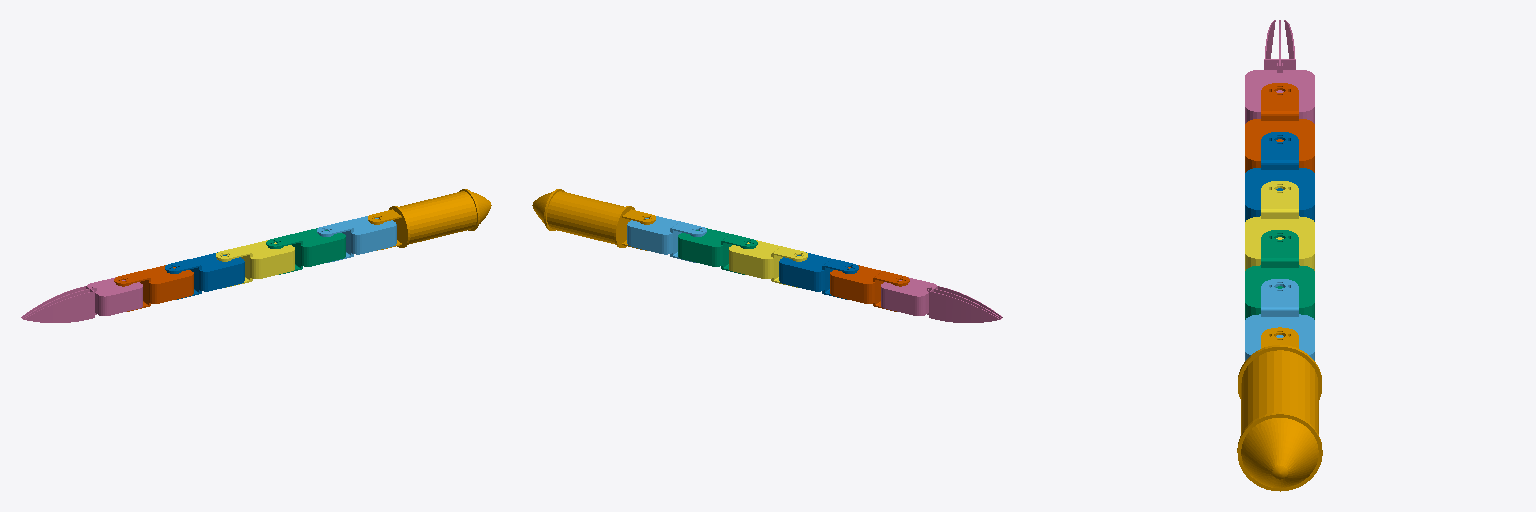
URDF robot description (test):
<robot name="test" version="1.0">
  <joint name="link1_joint" type="revolute">
    <limit lower="-1.50000" upper="1.50000" effort="10.00000" velocity="1.00000"/>
    <origin rpy="0.00000 0.00000 0.00000" xyz="-0.06425 0.00065 0.04200"/>
    <parent link="base_link"/>
    <child link="link1"/>
    <axis xyz="0.00000 0.00000 1.00000"/>
  </joint>
  <joint name="link2_joint" type="revolute">
    <limit lower="-1.50000" upper="1.50000" effort="10.00000" velocity="1.00000"/>
    <origin rpy="0.00000 0.00000 0.00000" xyz="-0.07470 0.00000 0.00000"/>
    <parent link="link1"/>
    <child link="link2"/>
    <axis xyz="0.00000 0.00000 1.00000"/>
  </joint>
  <joint name="link3_joint" type="revolute">
    <limit lower="-1.50000" upper="1.50000" effort="10.00000" velocity="1.00000"/>
    <origin rpy="0.00000 0.00000 0.00000" xyz="-0.07470 0.00000 0.00000"/>
    <parent link="link2"/>
    <child link="link3"/>
    <axis xyz="0.00000 0.00000 1.00000"/>
  </joint>
  <joint name="link4_joint" type="revolute">
    <limit lower="-1.50000" upper="1.50000" effort="10.00000" velocity="1.00000"/>
    <origin rpy="0.00000 0.00000 0.00000" xyz="-0.07332 0.00003 -0.00111"/>
    <parent link="link3"/>
    <child link="link4"/>
    <axis xyz="0.00000 0.00000 1.00000"/>
  </joint>
  <joint name="link5_joint" type="revolute">
    <limit lower="-1.50000" upper="1.50000" effort="10.00000" velocity="1.00000"/>
    <origin rpy="0.00000 0.00000 0.00000" xyz="-0.07608 -0.00003 0.00111"/>
    <parent link="link4"/>
    <child link="link5"/>
    <axis xyz="0.00000 0.00000 1.00000"/>
  </joint>
  <joint name="link6_joint" type="revolute">
    <limit lower="-1.50000" upper="1.50000" effort="10.00000" velocity="1.00000"/>
    <origin rpy="0.00000 0.00000 0.00000" xyz="-0.07470 0.00000 0.00000"/>
    <parent link="link5"/>
    <child link="link6"/>
    <axis xyz="0.00000 0.00000 1.00000"/>
  </joint>
  <link name="base_link">
    <visual name="base_link_visual">
      <origin rpy="0.00000 0.00000 -1.57080" xyz="-0.58754 0.02815 -0.00475"/>
      <geometry>
        <mesh filename="../meshes/stl/base_link_visual.stl" scale="1.00000 1.00000 1.00000"/>
      </geometry>
    </visual>
  </link>
  <link name="link1">
    <visual name="link1_visual">
      <origin rpy="0.00000 0.00000 -1.57080" xyz="-0.52329 0.02750 -0.04675"/>
      <geometry>
        <mesh filename="../meshes/stl/link1_visual.stl" scale="1.00000 1.00000 1.00000"/>
      </geometry>
    </visual>
  </link>
  <link name="link2">
    <visual name="link2_visual">
      <origin rpy="0.00000 0.00000 -1.57080" xyz="-0.44859 0.02750 -0.04675"/>
      <geometry>
        <mesh filename="../meshes/stl/link2_visual.stl" scale="1.00000 1.00000 1.00000"/>
      </geometry>
    </visual>
  </link>
  <link name="link3">
    <visual name="link3_visual">
      <origin rpy="0.00000 0.00000 -1.57080" xyz="-0.37389 0.02750 -0.04675"/>
      <geometry>
        <mesh filename="../meshes/stl/link3_visual.stl" scale="1.00000 1.00000 1.00000"/>
      </geometry>
    </visual>
  </link>
  <link name="link4">
    <visual name="link4_visual">
      <origin rpy="0.00000 0.00000 -1.57080" xyz="-0.30057 0.02747 -0.04564"/>
      <geometry>
        <mesh filename="../meshes/stl/link4_visual.stl" scale="1.00000 1.00000 1.00000"/>
      </geometry>
    </visual>
  </link>
  <link name="link5">
    <visual name="link5_visual">
      <origin rpy="0.00000 0.00000 -1.57080" xyz="-0.22449 0.02750 -0.04675"/>
      <geometry>
        <mesh filename="../meshes/stl/link5_visual.stl" scale="1.00000 1.00000 1.00000"/>
      </geometry>
    </visual>
  </link>
  <link name="link6">
    <collision name="link6_collision">
      <origin rpy="0.00000 0.00000 -1.57080" xyz="-0.14979 0.02750 -0.04675"/>
      <geometry>
        <box size="0.04500 0.17009 0.03800"/>
      </geometry>
    </collision>
    <visual name="link6_visual">
      <origin rpy="0.00000 0.00000 -1.57080" xyz="-0.14979 0.02750 -0.04675"/>
      <geometry>
        <mesh filename="../meshes/stl/link6_visual.stl" scale="1.00000 1.00000 1.00000"/>
      </geometry>
    </visual>
  </link>
</robot>

--- Facts derived from the render (not from the file) ---
Views: 3 orthographic renders of the robot side by side, from view 1: azimuth 30°, elevation 25°; view 2: azimuth 150°, elevation 25°; view 3: azimuth 270°, elevation 25°.
Robot: test — 7 links, 6 joints (6 revolute); root link base_link; default pose: all joints at 0.
Links seen in each view (by area): view 1: base_link, link6, link1, link5, link4, link2, link3; view 2: base_link, link6, link1, link4, link5, link2, link3; view 3: base_link, link5, link2, link3, link4, link1, link6.
Link boxes in pixels (x1,y1,x2,y2): base_link: (368, 189, 491, 250); link6: (21, 277, 142, 322); link1: (317, 216, 396, 262); link5: (114, 265, 193, 311); link4: (165, 252, 244, 299); link2: (266, 228, 345, 274); link3: (216, 240, 294, 287); base_link: (532, 189, 655, 250); link6: (881, 277, 1002, 322); link1: (627, 216, 706, 262); link4: (779, 252, 858, 299); link5: (830, 265, 909, 311); link2: (678, 228, 757, 274); link3: (729, 240, 807, 287); base_link: (1237, 327, 1322, 491); link5: (1245, 83, 1314, 172); link2: (1245, 230, 1314, 319); link3: (1245, 181, 1314, 270); link4: (1245, 132, 1314, 221); link1: (1245, 279, 1314, 360); link6: (1245, 20, 1314, 123).
Size in the robot's own frame: 0.6913 by 0.0549 by 0.055 metres.
Meshes: 7 distinct files referenced, 7 mesh visuals loaded (7 binary STL).
